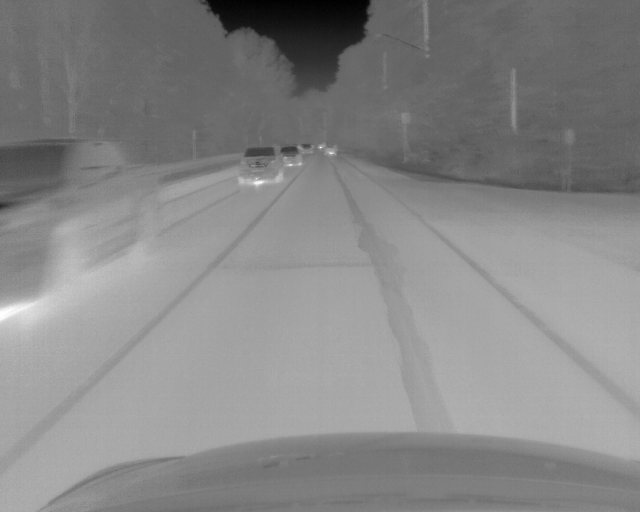car: (1, 141, 161, 322), (237, 144, 281, 188), (281, 145, 301, 168), (323, 146, 336, 157), (301, 144, 313, 155), (317, 143, 322, 149)
